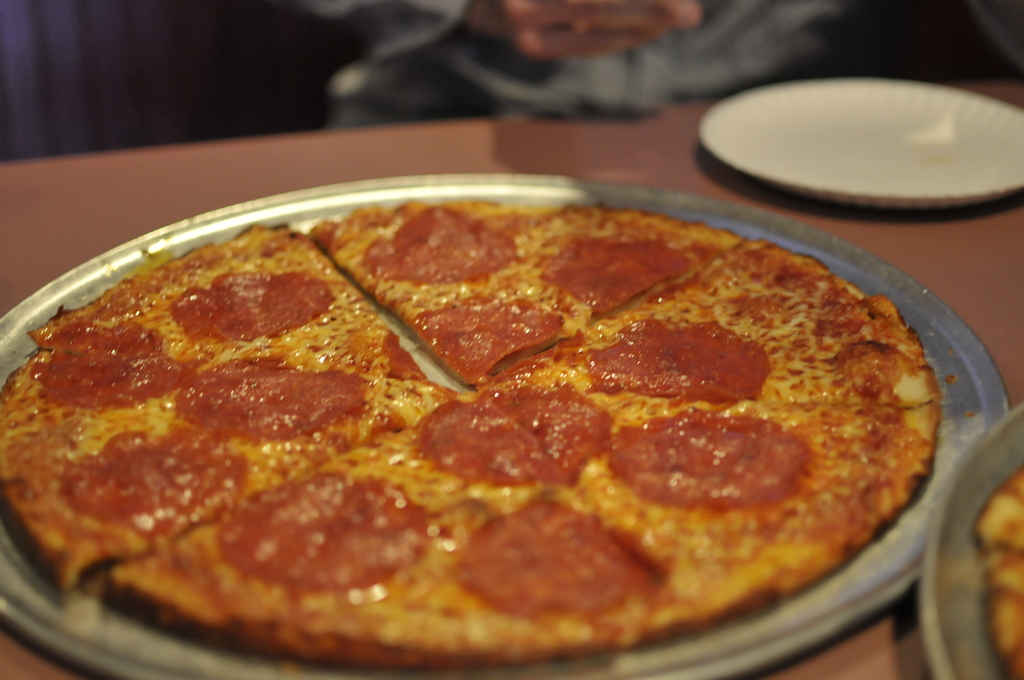Pizza: (12, 172, 956, 658)
